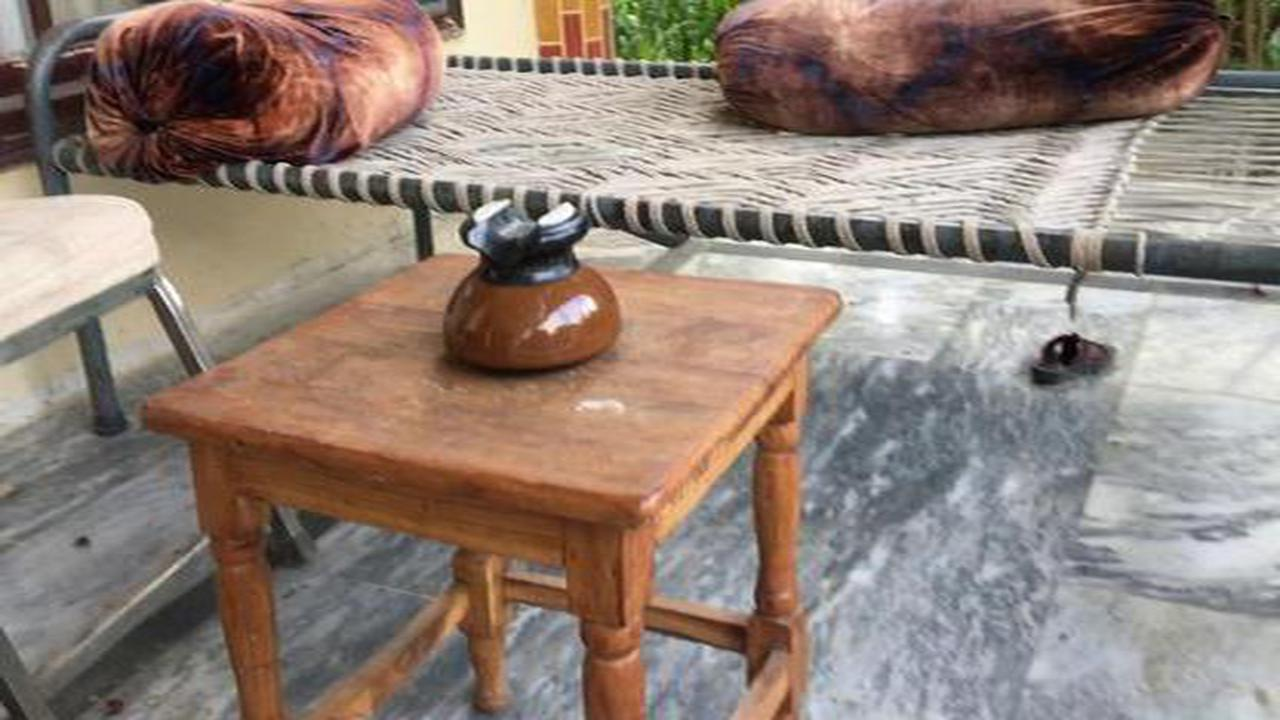insulator_pin: (419, 179, 644, 390)
